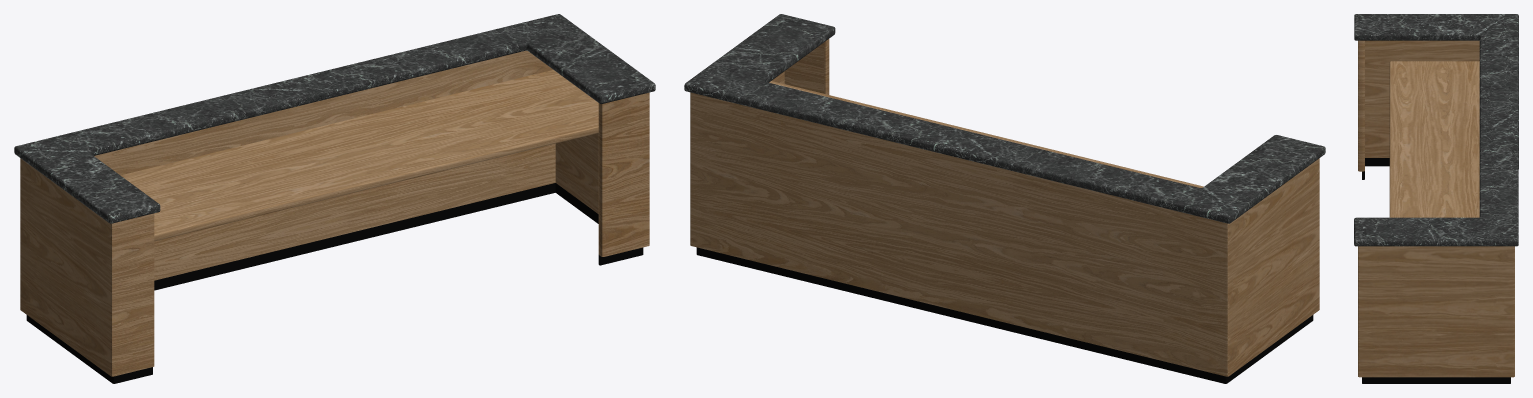
The model's file is theappxr_BanconeReception_NODRACO_standard.glb.
The picture shows the model from 3 angles, left to right: view 1: azimuth 30°, elevation 25°; view 2: azimuth 150°, elevation 25°; view 3: azimuth 270°, elevation 25°; orthographic projection. The views are drawn at different scales.
Parts seen in each view (by area): view 1: Bancone.001; view 2: Bancone.001; view 3: Bancone.001.
Part boxes in pixels (x1,y1,x2,y2): Bancone.001: [14, 14, 655, 383]; Bancone.001: [684, 14, 1325, 383]; Bancone.001: [1354, 14, 1518, 383].
Size of the model in its own units: 4.21 by 1.27 by 1.29.
Materials: 3 (3 with a texture image).
